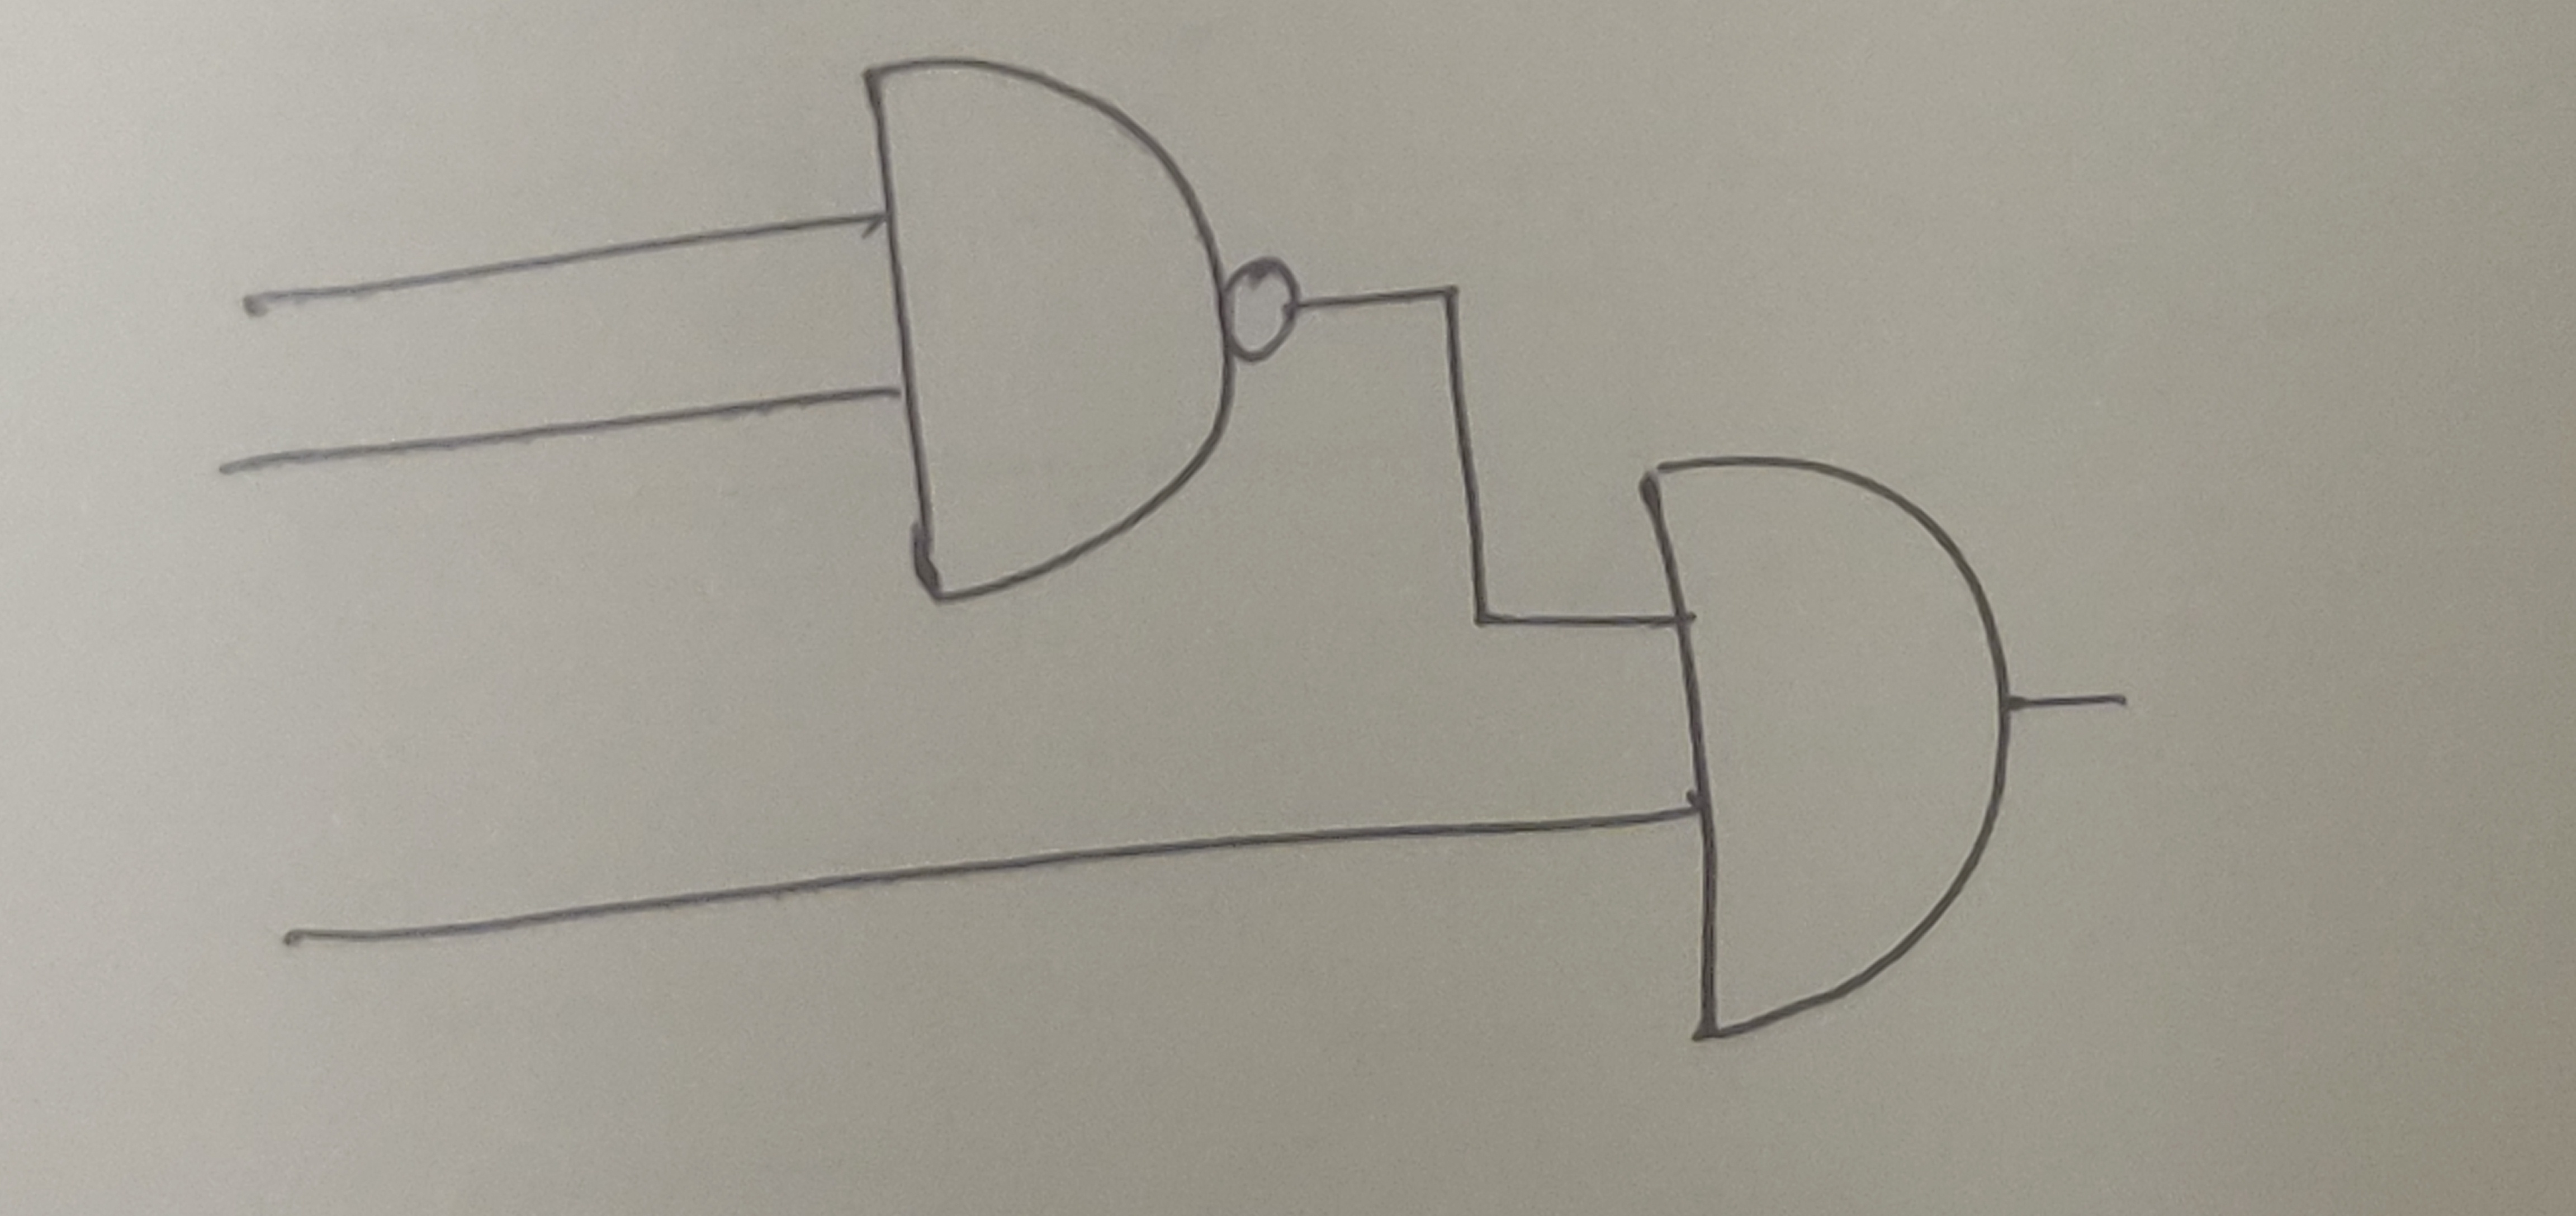and: (1636, 454, 2014, 1052), (854, 56, 1242, 601)
not: (1222, 253, 1301, 365)
